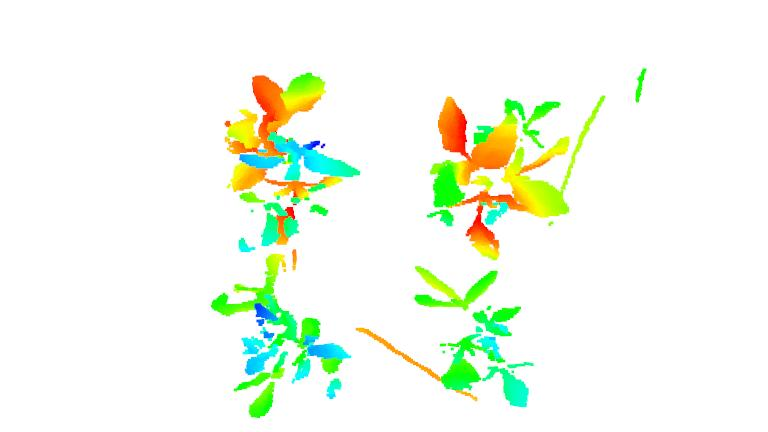mungbean: (199, 250, 357, 419), (221, 72, 361, 250), (425, 93, 573, 258), (413, 262, 544, 411)
